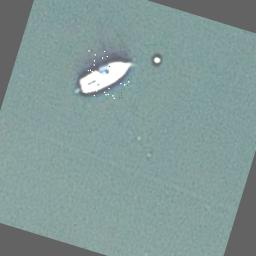boat: (74, 44, 137, 104)
